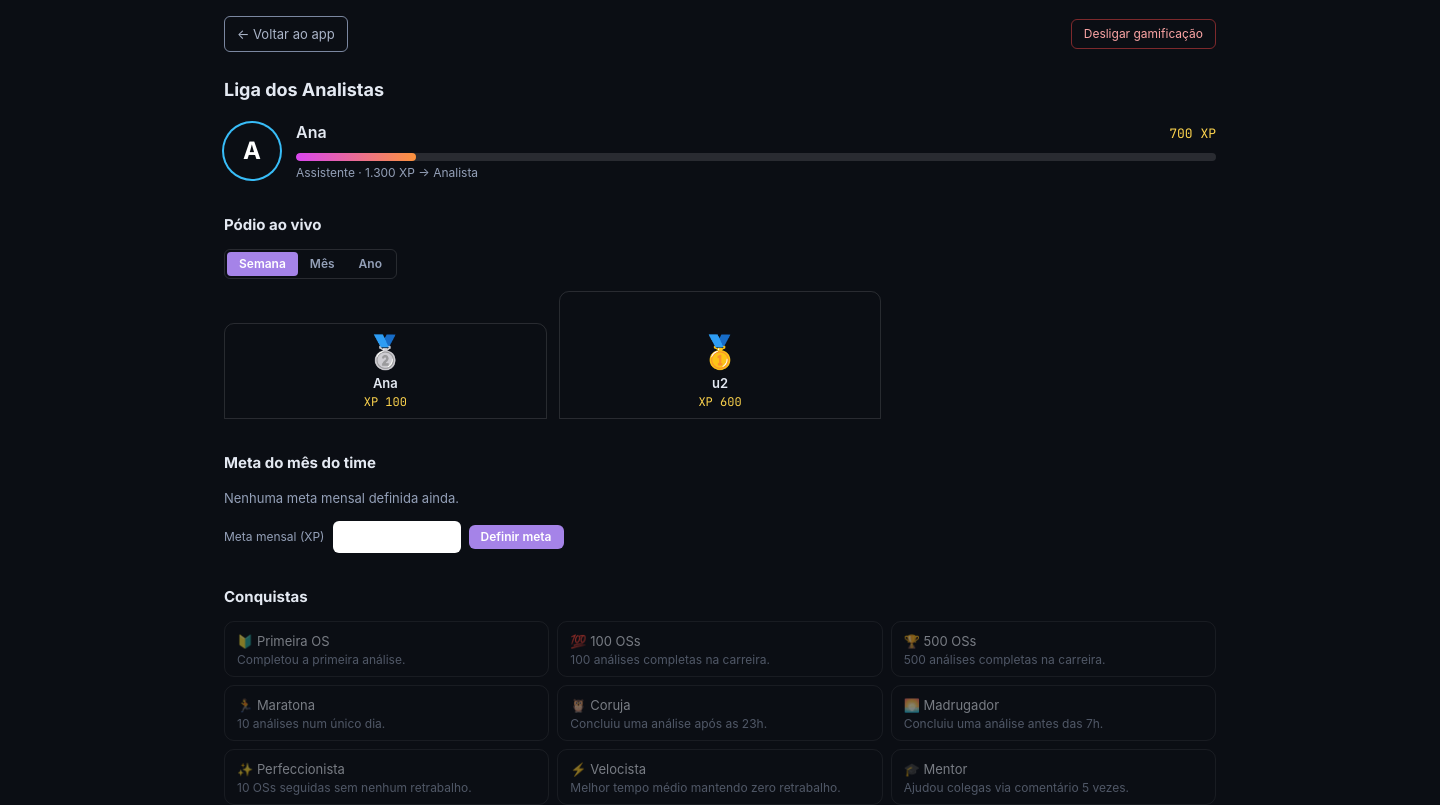
LeaguePanel — seção Meta do mês (modo time C4) › admin digita lixo: alert de inteiro >= 1 e nada gravado
The width and height of the screenshot is (1440, 805).
Type "12.5" into the number field labelled "Meta mensal (XP)" at (396, 537), box [332,521,460,553]
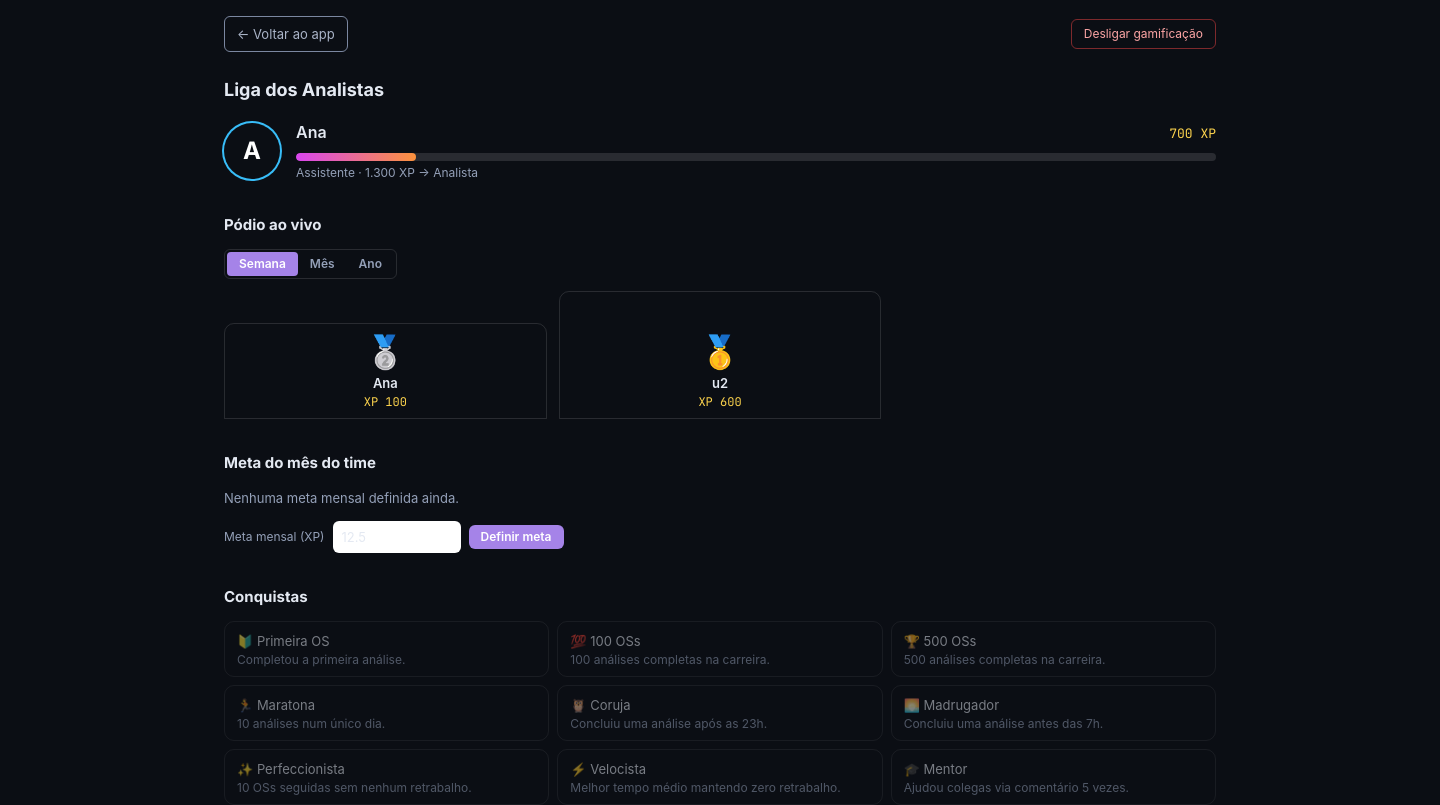
Submit the form with test id "league-team-form", box [224,521,564,553]
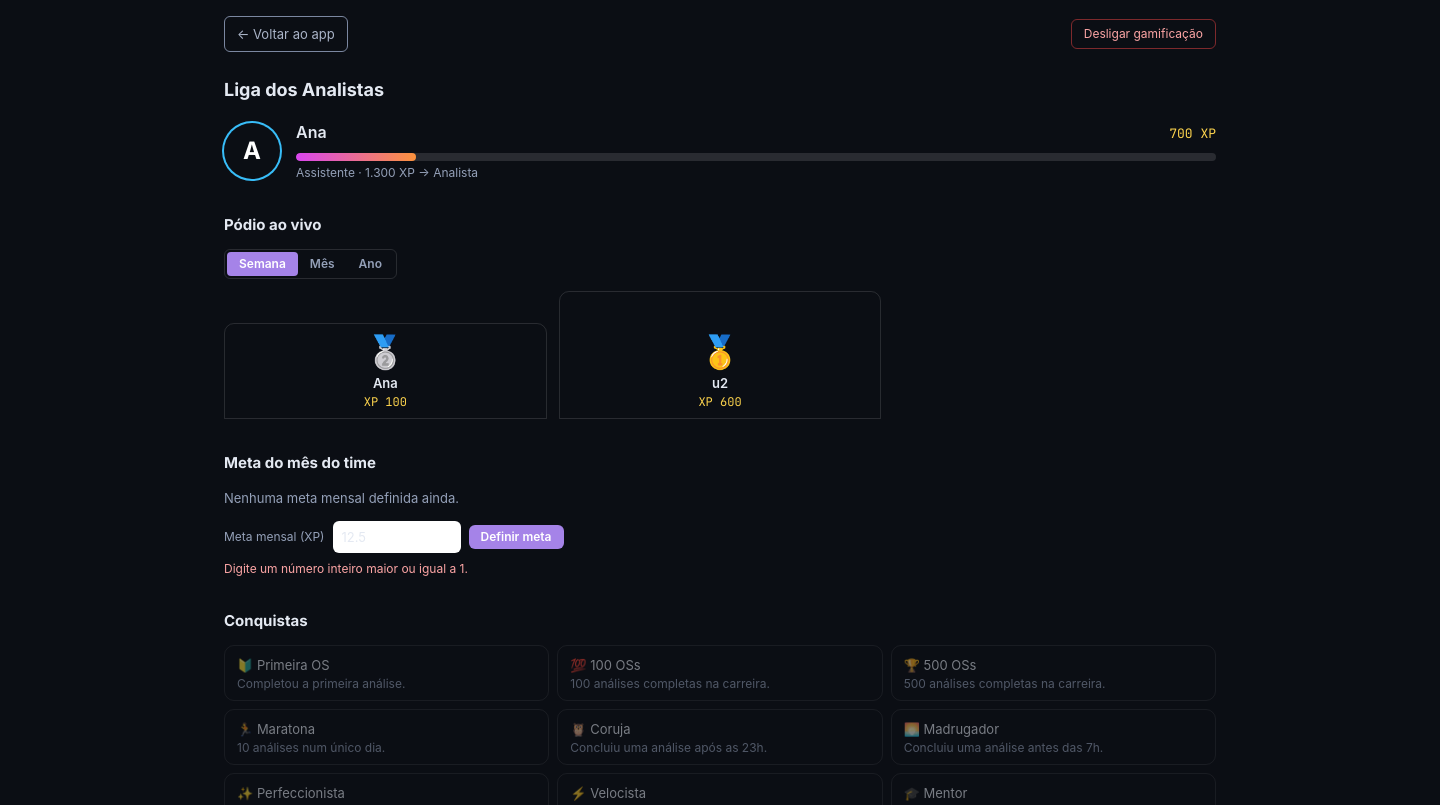
Now the message shows "inteiro", box [224,561,468,576]
